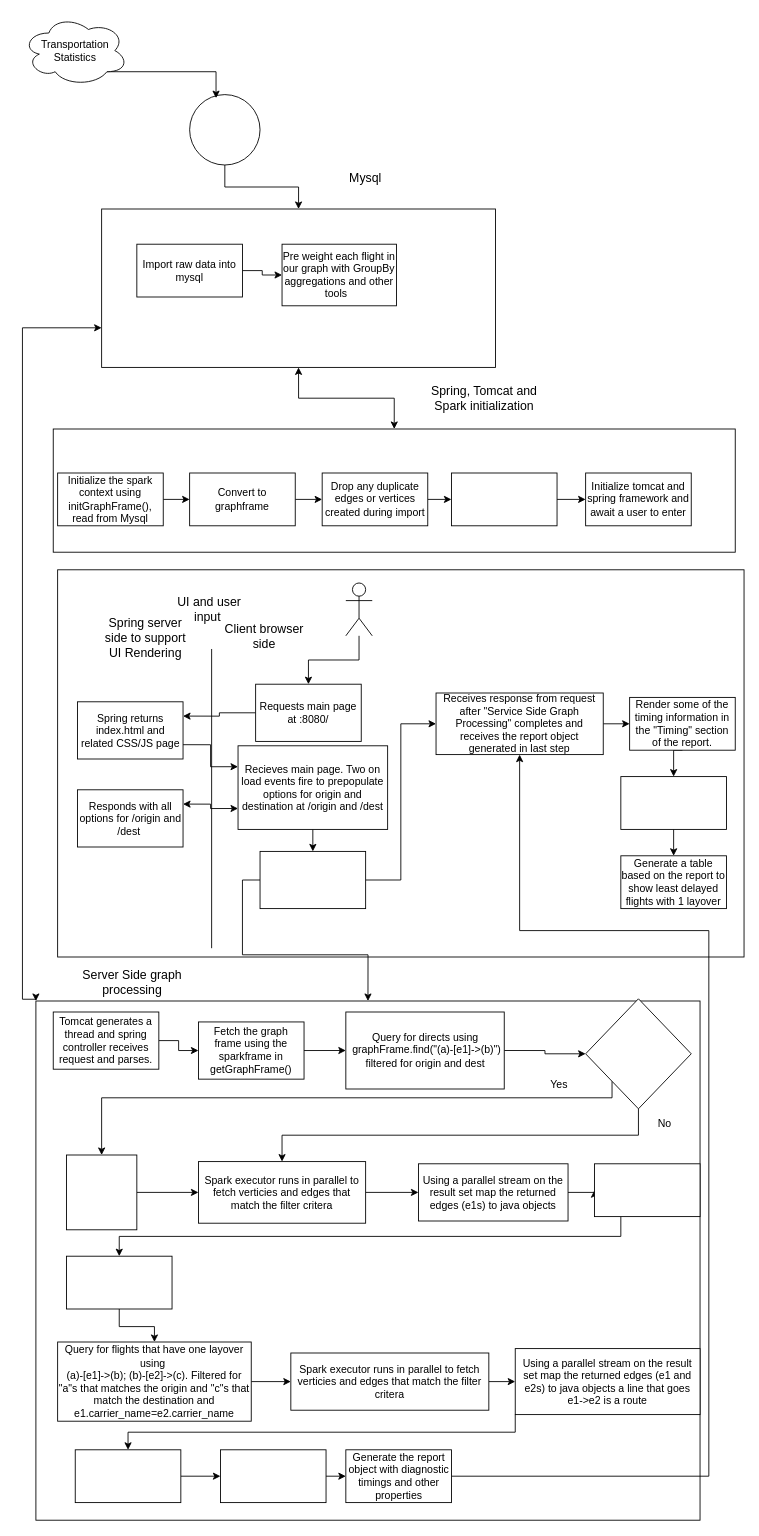
The diagram is 759 pixels wide and 1536 high, and some of its shapes have lost their labels. The centre of each missing label's shape, as x and y in pixels:
"Automatically generate spark query code on first query that will be reused" goes at point 101,1192.
"Cache graphframe in Spark memory" goes at point 504,499.
"Excel sheets" goes at point 224,129.
"First time running since tomcat restart?" goes at point 638,1053.
"Generate a table based on the report to show the least delayed direct flights" goes at point 673,802.
"Requests /route?origin={origin}&dest={dest}" goes at point 312,880.
"Save how long the execution took" goes at point 119,1282.
"Save the time it took" goes at point 273,1476.
"Sort them to find the least delayed route" goes at point 127,1476.
"Sort them using the stream operator to get least delayed" goes at point 647,1190.
"User" goes at point 358,609.
